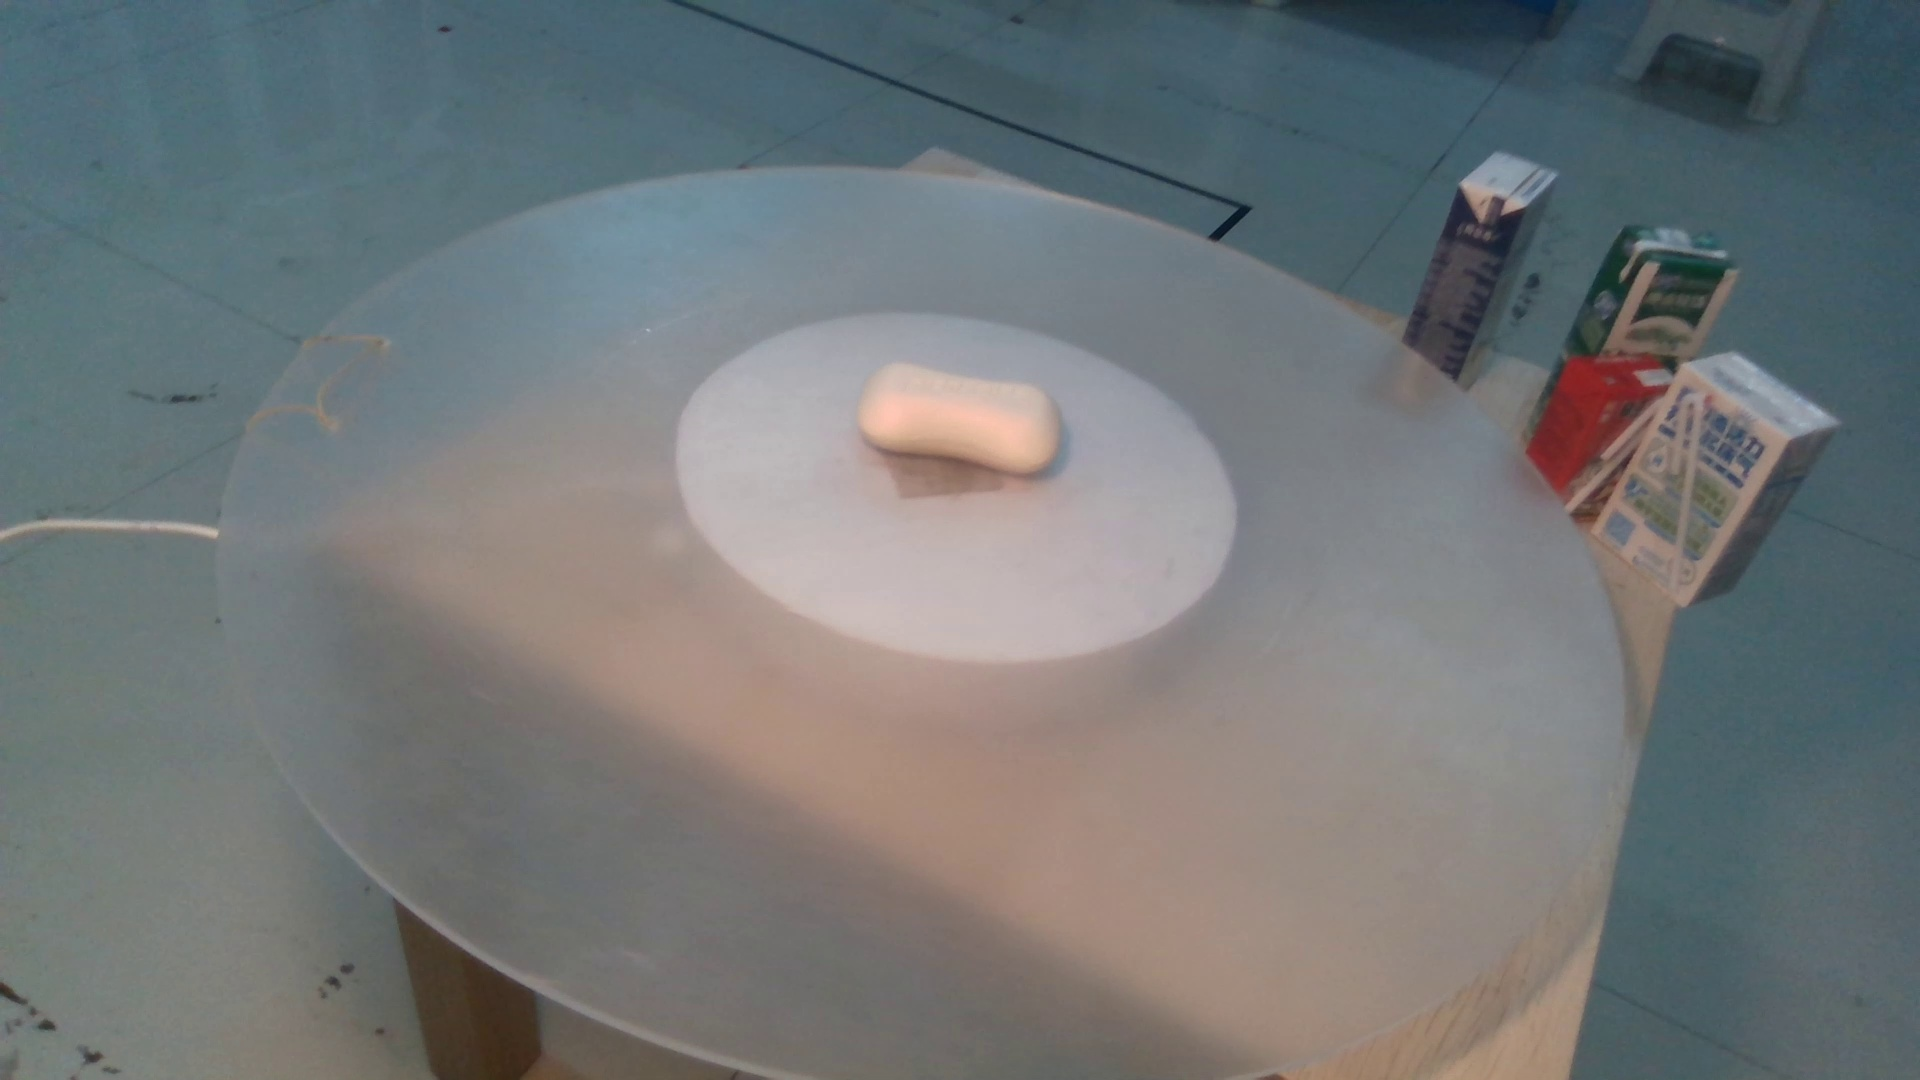CA003_1: (832, 345, 1093, 473)
